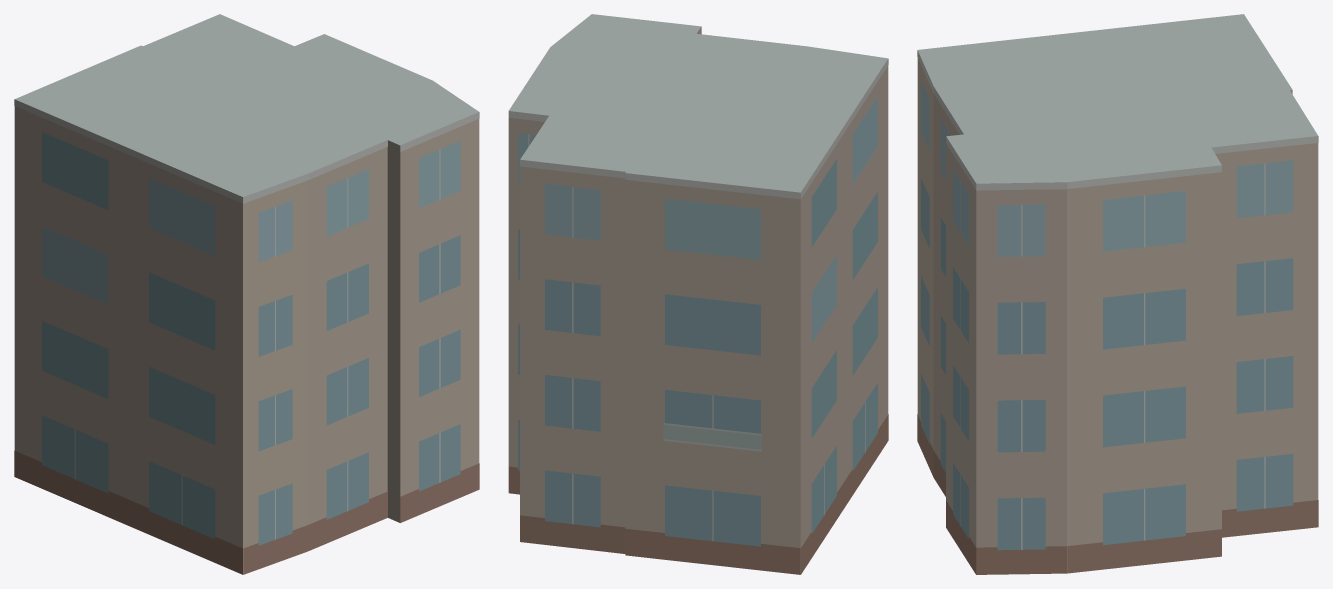
Rendered from survey-upis-32614687.glb.
3 renders of one model, left to right at view 1: azimuth 30°, elevation 25°; view 2: azimuth 150°, elevation 25°; view 3: azimuth 270°, elevation 25°, orthographic. The views are drawn at different scales.
Parts seen in each view (by area): view 1: survey-upis-32614687.tmp; view 2: survey-upis-32614687.tmp; view 3: survey-upis-32614687.tmp.
Part boxes in pixels (x1,y1,x2,y2): survey-upis-32614687.tmp: (14, 14, 479, 574); survey-upis-32614687.tmp: (508, 14, 888, 574); survey-upis-32614687.tmp: (917, 14, 1318, 574).
Bounding box in the file's own units: 12.94 × 13.9 × 12.92.
